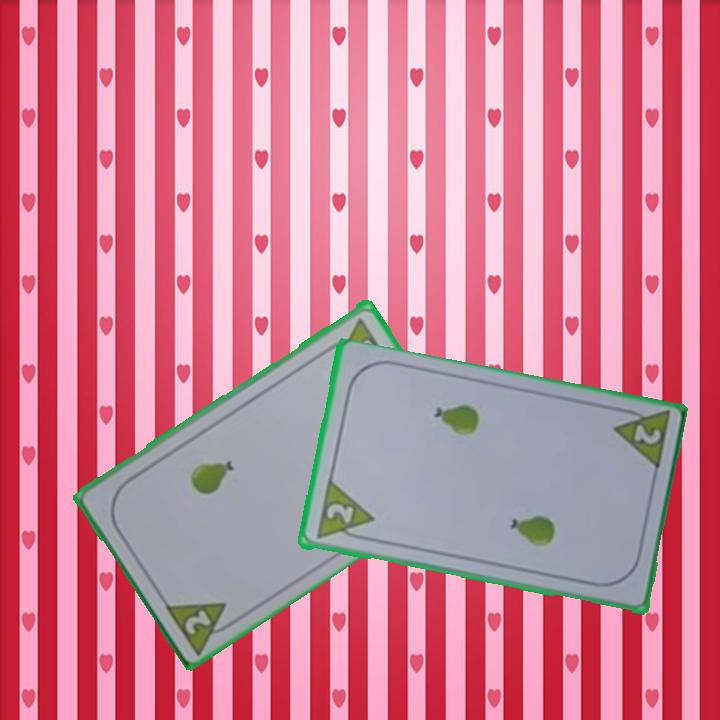2p: (160, 597, 242, 656), (608, 403, 673, 475), (322, 499, 356, 527)
